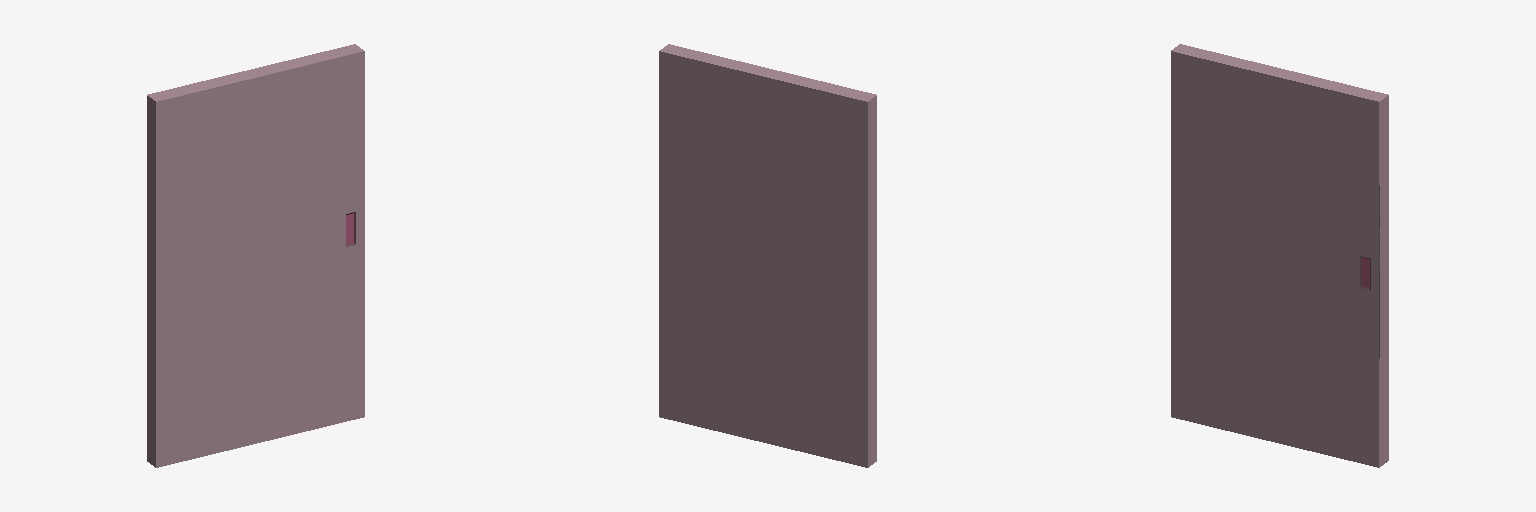
File: door.obj
3 views of the same model, side by side, from view 1: azimuth 30°, elevation 25°; view 2: azimuth 150°, elevation 25°; view 3: azimuth 330°, elevation 25° (orthographic).
Visible parts, largest first — view 1: pCube1; view 2: pCube1; view 3: pCube1.
Boxes of the visible parts, box(x1,y1,x2,y2) form: pCube1: box(147, 44, 364, 467); pCube1: box(659, 44, 876, 467); pCube1: box(1171, 44, 1388, 467).
Bounding box in the file's own units: 6.12 × 10.24 × 0.4923.